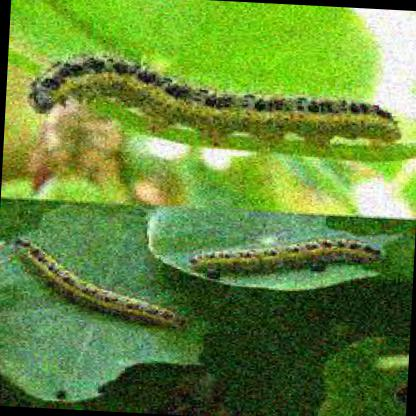pieris: (23, 51, 403, 144)
